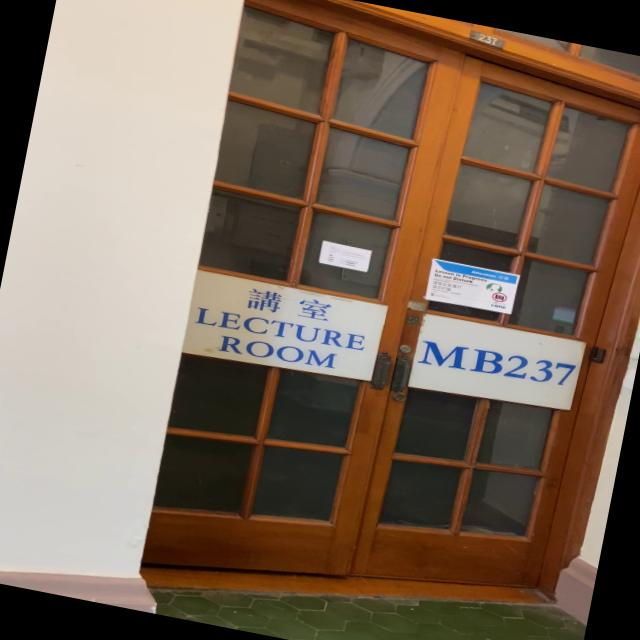room237: (466, 26, 506, 52)
room237Window: (415, 328, 580, 397)
